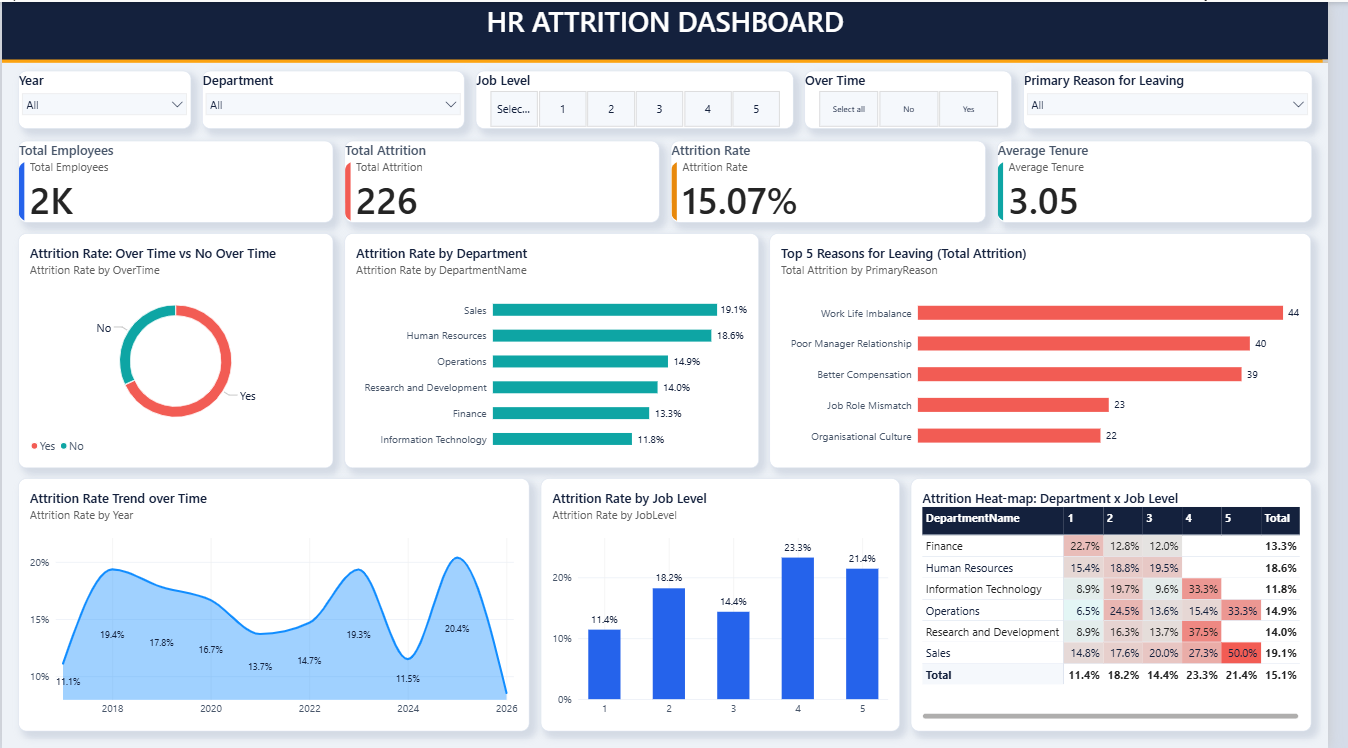

The page's visual inventory and layout, read from the dashboard file:
{"tool":"powerbi","page":{"name":"HR Attrition Overview","canvas":[1920,1080],"ordinal":0},"visuals":[{"type":"textbox","box":[0,0,1920,84],"z":0},{"type":"textbox","box":[0,84,1920,5],"z":1000},{"type":"slicer","title":"Year","fields":{"Values":["Date.YearMonth.Variation.Date Hierarchy.Year"]},"box":[24,100,250,84],"z":2000},{"type":"slicer","title":"Department","fields":{"Values":["Department.DepartmentName"]},"box":[290,100,380,84],"z":3000},{"type":"slicer","title":"Job Level","fields":{"Values":["Employee.JobLevel"]},"box":[686,100,460,84],"z":4000},{"type":"slicer","title":"Over Time","fields":{"Values":["Employee.OverTime"]},"box":[1162,100,300,84],"z":5000},{"type":"slicer","title":"Primary Reason for Leaving","fields":{"Values":["Employee.PrimaryReason"]},"box":[1478,100,418,84],"z":6000},{"type":"cardVisual","title":"Total Employees","fields":{"Data":["Fact_Attrition.Total Employees"]},"box":[24,200,456,118],"z":7000},{"type":"cardVisual","title":"Total Attrition","fields":{"Data":["Fact_Attrition.Total Attrition"]},"box":[496,200,456,118],"z":8000},{"type":"cardVisual","title":"Attrition Rate","fields":{"Data":["Fact_Attrition.Attrition Rate"]},"box":[968,200,456,118],"z":9000},{"type":"cardVisual","title":"Average Tenure","fields":{"Data":["Fact_Attrition.Average Tenure"]},"box":[1440,200,456,118],"z":10000},{"type":"donutChart","title":"Attrition Rate: Over Time vs No Over Time","fields":{"Category":["Employee.OverTime"],"Y":["Fact_Attrition.Attrition Rate"]},"box":[24,334,456,340],"z":11000},{"type":"barChart","title":"Attrition Rate by Department","fields":{"Category":["Department.DepartmentName"],"Y":["Fact_Attrition.Attrition Rate"]},"box":[496,334,600,340],"z":12000},{"type":"clusteredBarChart","title":"Top 5 Reasons for Leaving (Total Attrition)","fields":{"Category":["Employee.PrimaryReason"],"Y":["Fact_Attrition.Total Attrition"]},"box":[1112,334,784,340],"z":13000},{"type":"stackedAreaChart","title":"Attrition Rate Trend over Time","fields":{"Category":["Date.YearMonth.Variation.Date Hierarchy.Year","Date.YearMonth.Variation.Date Hierarchy.Month"],"Y":["Fact_Attrition.Attrition Rate"]},"box":[24,690,740,366],"z":14000},{"type":"clusteredColumnChart","title":"Attrition Rate by Job Level","fields":{"Y":["Fact_Attrition.Attrition Rate"],"Category":["Employee.JobLevel"]},"box":[780,690,520,366],"z":15000},{"type":"pivotTable","title":"Attrition Heat-map: Department x Job Level","fields":{"Rows":["Department.DepartmentName"],"Columns":["Employee.JobLevel"],"Values":["Fact_Attrition.Attrition Rate"]},"box":[1316,690,580,366],"z":16000}]}

Visuals, with their boxes in screenshot pixels (x1, y1, x2, y2), scaled from the page's 1920x1080 canvas onto the 1348x748 screenshot:
textbox: <box>0,0,1347,58</box>
textbox: <box>0,58,1347,62</box>
"Year" slicer: <box>17,69,192,127</box>
"Department" slicer: <box>204,69,470,127</box>
"Job Level" slicer: <box>482,69,805,127</box>
"Over Time" slicer: <box>816,69,1026,127</box>
"Primary Reason for Leaving" slicer: <box>1038,69,1331,127</box>
"Total Employees" cardVisual: <box>17,139,337,220</box>
"Total Attrition" cardVisual: <box>348,139,668,220</box>
"Attrition Rate" cardVisual: <box>680,139,1000,220</box>
"Average Tenure" cardVisual: <box>1011,139,1331,220</box>
"Attrition Rate: Over Time vs No Over Time" donutChart: <box>17,231,337,467</box>
"Attrition Rate by Department" barChart: <box>348,231,769,467</box>
"Top 5 Reasons for Leaving (Total Attrition)" clusteredBarChart: <box>781,231,1331,467</box>
"Attrition Rate Trend over Time" stackedAreaChart: <box>17,478,536,731</box>
"Attrition Rate by Job Level" clusteredColumnChart: <box>548,478,913,731</box>
"Attrition Heat-map: Department x Job Level" pivotTable: <box>924,478,1331,731</box>
